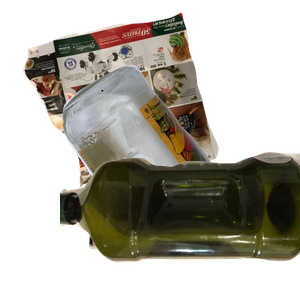glass: (60, 63, 300, 243)
paper: (20, 10, 231, 190)
plastic: (60, 149, 300, 300)
trash: (86, 158, 242, 300)
